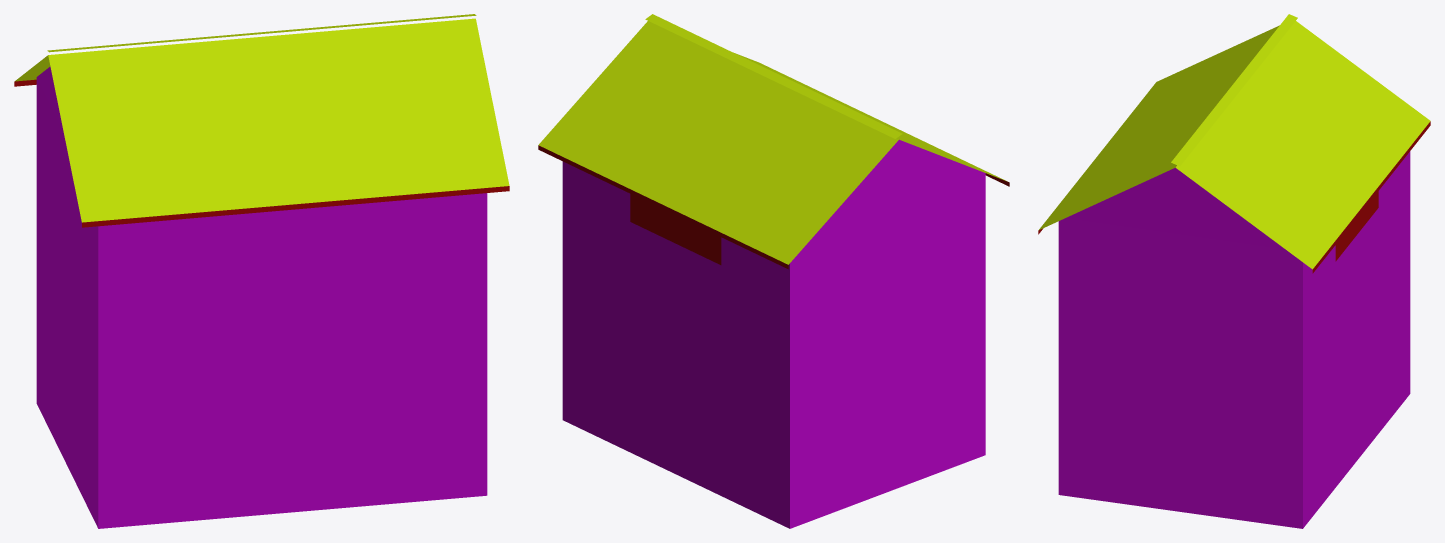
File: btm_19.glb
The picture shows the model from 3 angles, left to right: view 1: azimuth 30°, elevation 25°; view 2: azimuth 150°, elevation 25°; view 3: azimuth 270°, elevation 25°; orthographic projection. The views are drawn at different scales.
Visible parts, largest first — view 1: btm_19; view 2: btm_19; view 3: btm_19.
Part boxes in pixels (left/top/right/bottom): btm_19: left=14, top=14, right=509, bottom=528; btm_19: left=538, top=14, right=1009, bottom=528; btm_19: left=1038, top=14, right=1430, bottom=528.
Bounding box in the file's own units: 10.98 × 9.71 × 9.71.
